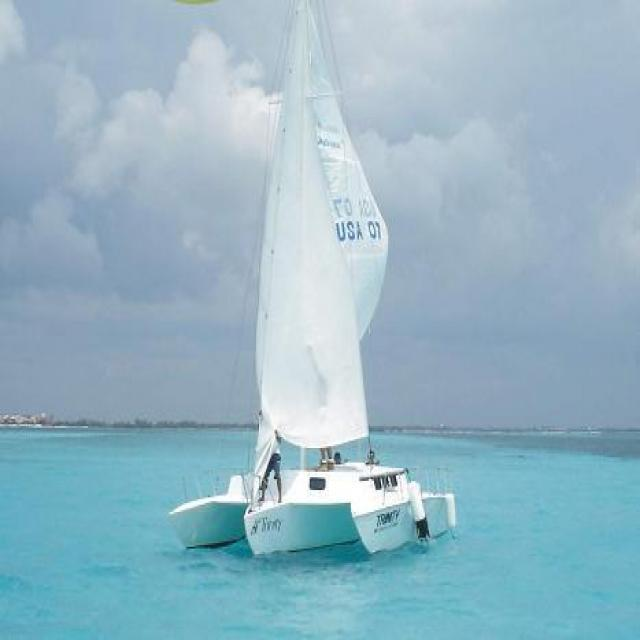Ship: (178, 17, 456, 563)
